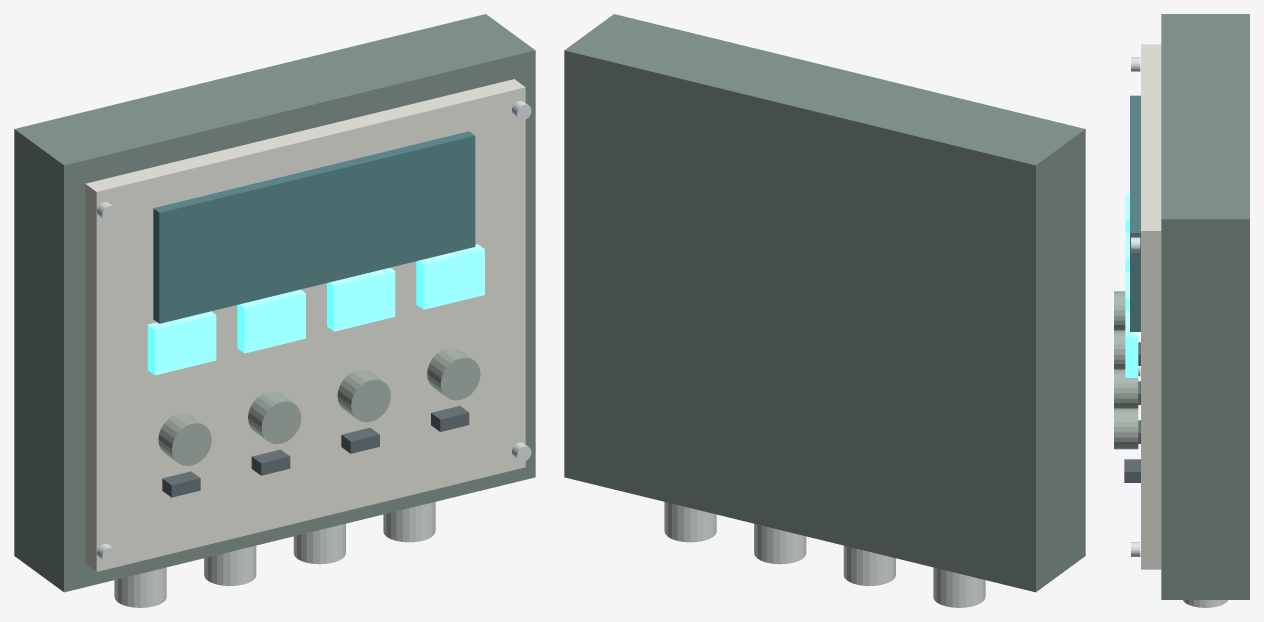
File: s7-c-irr01-bed-control-4zone.glb
3 views of the same model, side by side, from view 1: azimuth 30°, elevation 25°; view 2: azimuth 150°, elevation 25°; view 3: azimuth 270°, elevation 25° (orthographic). The views are drawn at different scales.
Visible parts, largest first — view 1: 001_control_panel_cream_cover, 000_field_control_reinforced_back_shell, 002_display_dark_glass, 003_zone_status_led_0, 012_zone_status_led_3, 009_zone_status_led_2, 006_zone_status_led_1, 007_bed_zone_pushbutton_1, 013_bed_zone_pushbutton_3, 004_bed_zone_pushbutton_0, 010_bed_zone_pushbutton_2, 018_hose_output_4_zones_3 (+7 smaller); view 2: 000_field_control_reinforced_back_shell, 018_hose_output_4_zones_3, 015_hose_output_4_zones_0, 016_hose_output_4_zones_1, 017_hose_output_4_zones_2; view 3: 000_field_control_reinforced_back_shell, 001_control_panel_cream_cover, 002_display_dark_glass, 013_bed_zone_pushbutton_3, 010_bed_zone_pushbutton_2, 012_zone_status_led_3, 004_bed_zone_pushbutton_0, 007_bed_zone_pushbutton_1, 014_label_slot_3, 018_hose_output_4_zones_3.
Part boxes in pixels (x1,y1,x2,y2): 001_control_panel_cream_cover: (85, 79, 525, 571); 000_field_control_reinforced_back_shell: (14, 14, 535, 592); 002_display_dark_glass: (153, 131, 475, 323); 003_zone_status_led_0: (147, 311, 216, 375); 012_zone_status_led_3: (416, 244, 484, 309); 009_zone_status_led_2: (327, 267, 395, 331); 006_zone_status_led_1: (237, 289, 305, 353); 007_bed_zone_pushbutton_1: (248, 391, 301, 444); 013_bed_zone_pushbutton_3: (427, 347, 480, 400); 004_bed_zone_pushbutton_0: (158, 413, 211, 465); 010_bed_zone_pushbutton_2: (337, 369, 390, 422); 018_hose_output_4_zones_3: (383, 502, 435, 542); 000_field_control_reinforced_back_shell: (564, 14, 1085, 592); 018_hose_output_4_zones_3: (664, 502, 716, 542); 015_hose_output_4_zones_0: (933, 567, 985, 607); 016_hose_output_4_zones_1: (843, 545, 895, 585); 017_hose_output_4_zones_2: (754, 523, 806, 564); 000_field_control_reinforced_back_shell: (1161, 14, 1249, 599); 001_control_panel_cream_cover: (1141, 44, 1161, 569); 002_display_dark_glass: (1130, 95, 1140, 331); 013_bed_zone_pushbutton_3: (1114, 408, 1138, 449); 010_bed_zone_pushbutton_2: (1114, 369, 1138, 408); 012_zone_status_led_3: (1125, 310, 1138, 377); 004_bed_zone_pushbutton_0: (1114, 291, 1125, 330); 007_bed_zone_pushbutton_1: (1114, 330, 1125, 369); 014_label_slot_3: (1124, 459, 1140, 482); 018_hose_output_4_zones_3: (1183, 600, 1228, 607).
Size of the model in its own units: 0.52 by 0.5 by 0.1455.
